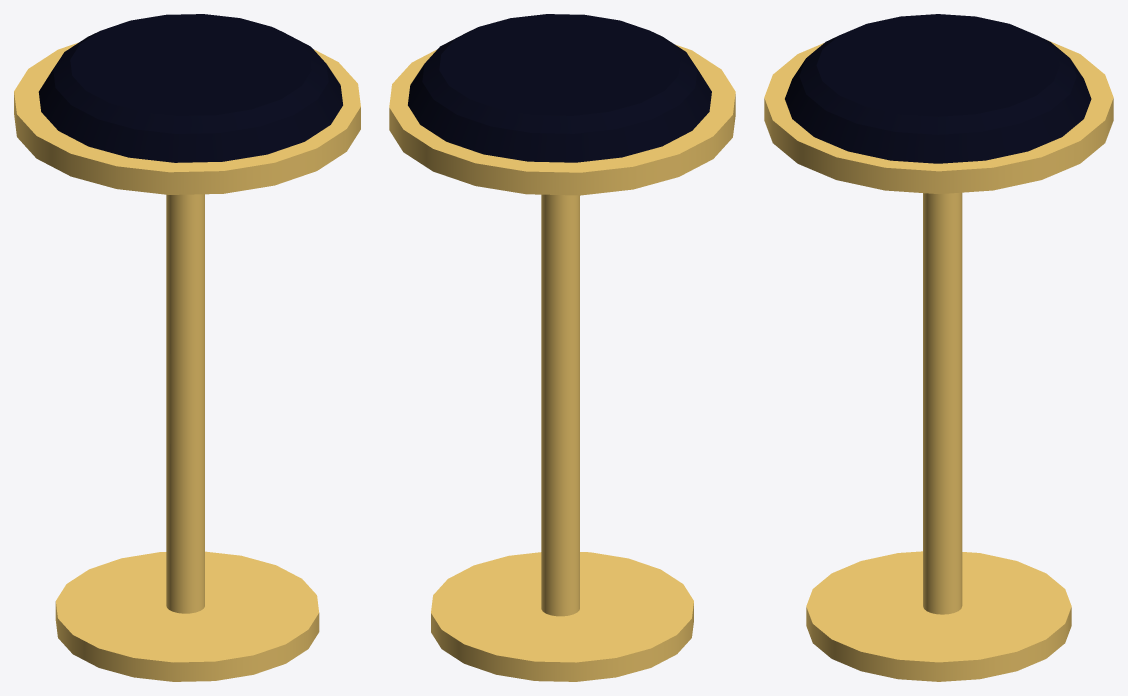
Rendered from Stool_Text.fbx.
3 renders of one model, left to right at view 1: azimuth 30°, elevation 25°; view 2: azimuth 150°, elevation 25°; view 3: azimuth 270°, elevation 25°, orthographic.
Parts seen in each view (by area): view 1: Tabouret_v3:pCylinder4; view 2: Tabouret_v3:pCylinder4; view 3: Tabouret_v3:pCylinder4.
Boxes of the visible parts, x1,y1,x2,y2 form: Tabouret_v3:pCylinder4: [14, 14, 360, 681]; Tabouret_v3:pCylinder4: [389, 14, 735, 681]; Tabouret_v3:pCylinder4: [764, 14, 1113, 681].
Size of the model in its own units: 40.06 by 71.08 by 40.06.
Materials: 1 (1 with a texture image).
